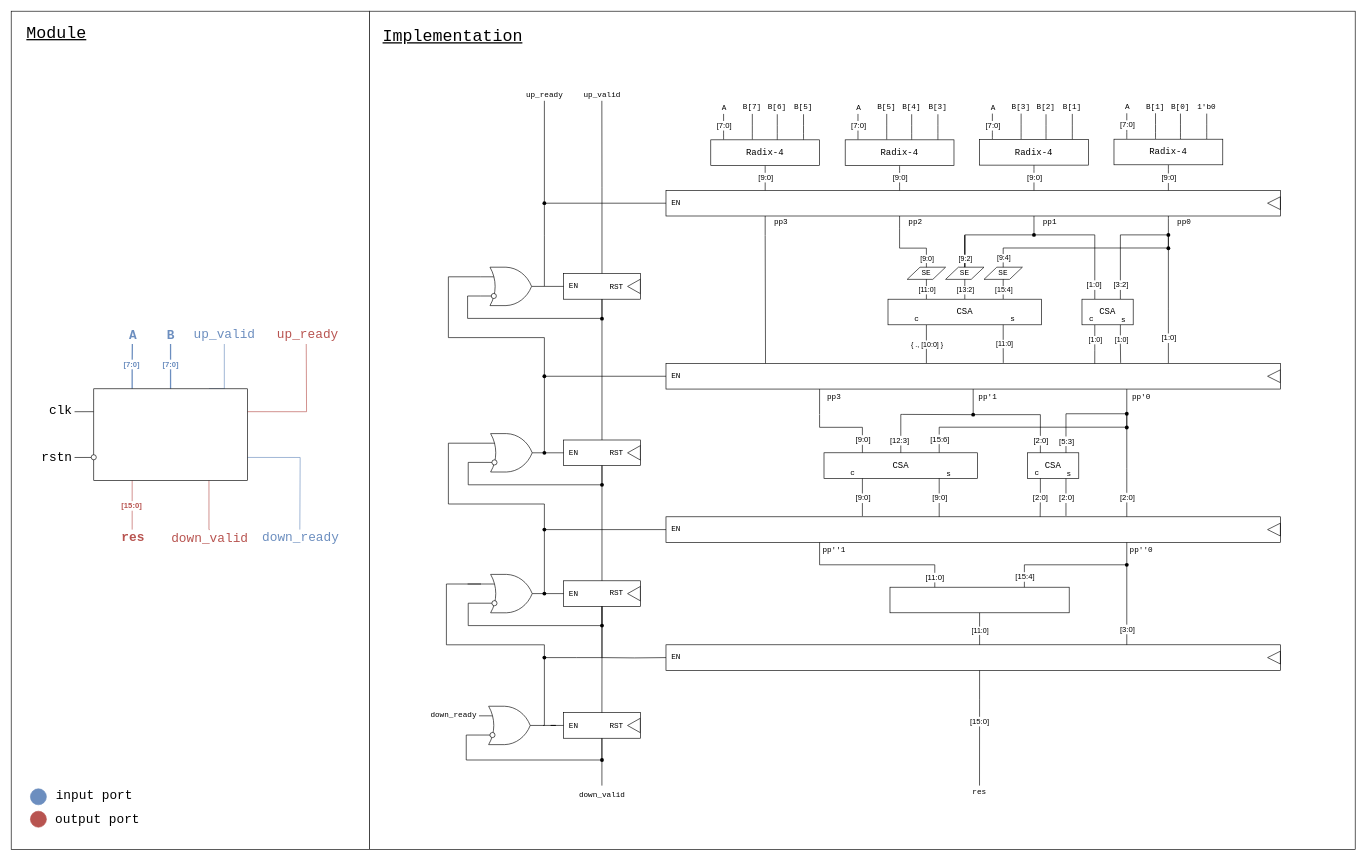
Some shapes in this 1366 by 861 pixel diagram are drawn without their labels. The centre of each missing label's shape, as x and y in pixels:
"8-bit Multiplier" belongs at (170,434).
"Ripple-carry adder" belongs at (979,600).
